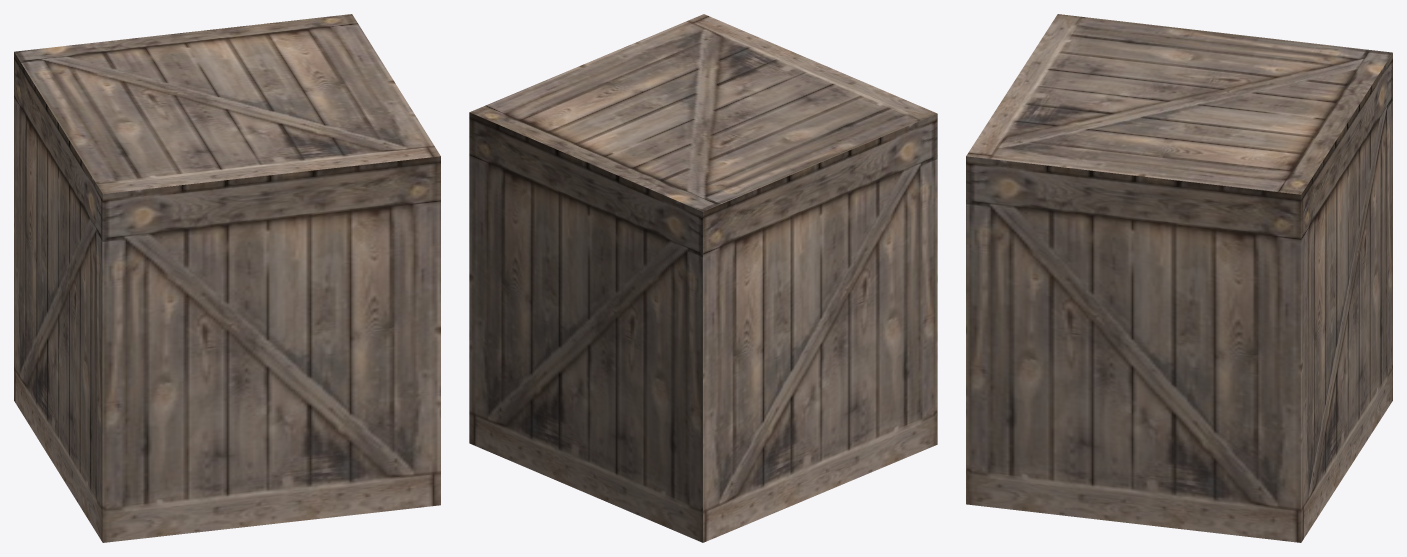
3 renders of one model, left to right at view 1: azimuth 30°, elevation 25°; view 2: azimuth 150°, elevation 25°; view 3: azimuth 270°, elevation 25°, orthographic. The views are drawn at different scales.
Parts seen in each view (by area): view 1: C008_Boxs_08_0; view 2: C008_Boxs_08_0; view 3: C008_Boxs_08_0.
Part boxes in pixels (bbox=[...]): C008_Boxs_08_0: bbox=[14, 14, 440, 542]; C008_Boxs_08_0: bbox=[469, 14, 937, 542]; C008_Boxs_08_0: bbox=[966, 14, 1392, 542].
Bounding box in the file's own units: 1.44 × 1.3 × 1.44.
1 material, 1 textured.
